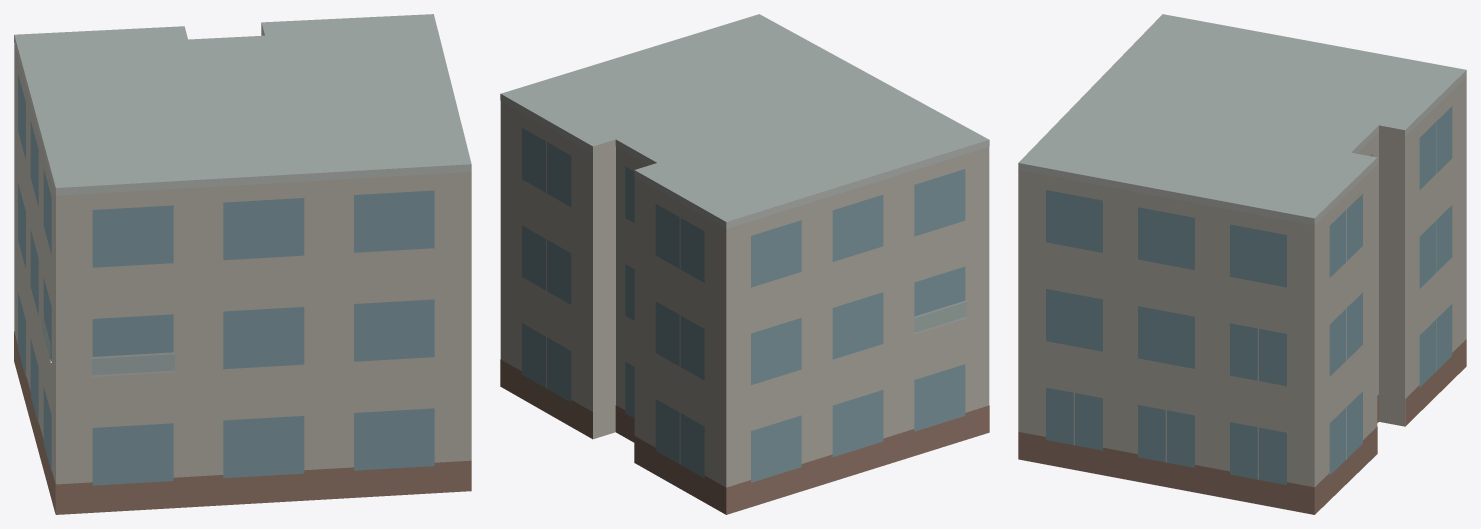
The model's file is survey-upis-32530499.glb.
3 views of the same model, side by side, from view 1: azimuth 30°, elevation 25°; view 2: azimuth 150°, elevation 25°; view 3: azimuth 270°, elevation 25° (orthographic). The views are drawn at different scales.
Visible parts, largest first — view 1: survey-upis-32530499.tmp; view 2: survey-upis-32530499.tmp; view 3: survey-upis-32530499.tmp.
Part boxes in pixels (<box>): survey-upis-32530499.tmp: <box>14,14,471,514</box>; survey-upis-32530499.tmp: <box>500,14,989,514</box>; survey-upis-32530499.tmp: <box>1018,14,1466,514</box>.
Bounding box in the file's own units: 15.26 × 10.31 × 14.14.
